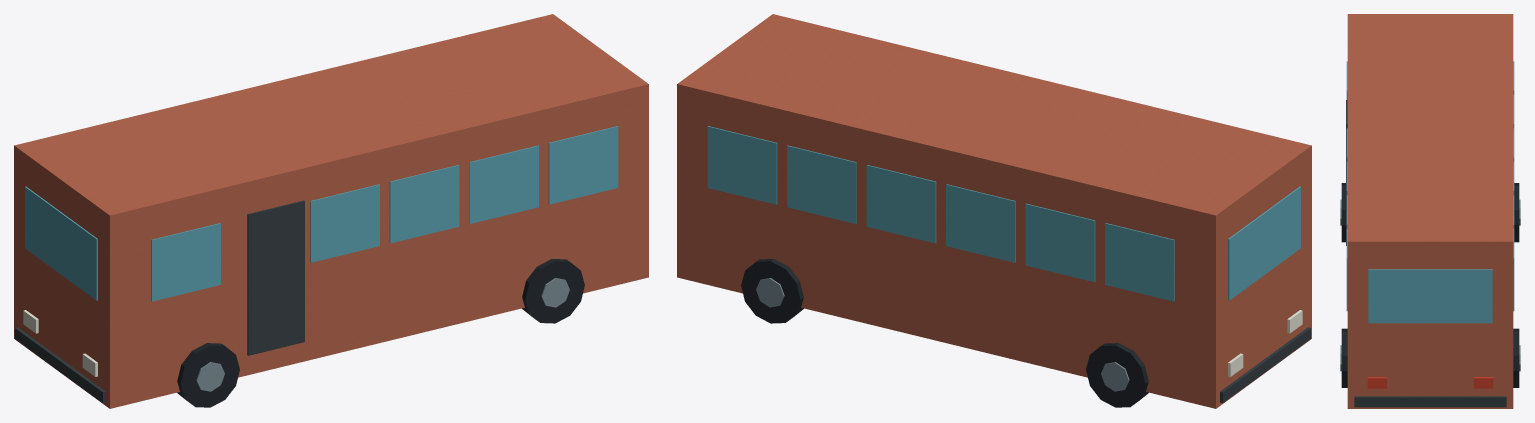
The model's file is bus.glb.
The picture shows the model from 3 angles, left to right: view 1: azimuth 30°, elevation 25°; view 2: azimuth 150°, elevation 25°; view 3: azimuth 270°, elevation 25°; orthographic projection. The views are drawn at different scales.
Parts seen in each view (by area): view 1: Bus passenger volume 010, Vehicle lower body 009, Passenger door 024, Bus end glass 022, Bus side window 020, Bus side window 016, Bus side window 011, Bus side window 014, Bus side window 018, Polygon tyre 001, Polygon tyre 005, Bumper 029 (+2 smaller); view 2: Bus passenger volume 010, Vehicle lower body 009, Bus end glass 022, Bus side window 013, Bus side window 021, Bus side window 017, Bus side window 012, Bus side window 015, Bus side window 019, Polygon tyre 003, Polygon tyre 007, Bumper 029 (+2 smaller); view 3: Bus passenger volume 010, Bus end glass 023, Vehicle lower body 009, Bumper 030, Polygon tyre 005, Polygon tyre 007, Polygon tyre 003, Polygon tyre 001, Rear lamp 026, Rear lamp 028.
Boxes of the visible parts, x1=… form: Bus passenger volume 010: x1=14, y1=14, x2=648, y2=363; Vehicle lower body 009: x1=14, y1=231, x2=648, y2=408; Passenger door 024: x1=247, y1=200, x2=304, y2=355; Bus end glass 022: x1=25, y1=186, x2=97, y2=300; Bus side window 020: x1=548, y1=126, x2=618, y2=204; Bus side window 016: x1=389, y1=165, x2=459, y2=243; Bus side window 011: x1=151, y1=223, x2=220, y2=301; Bus side window 014: x1=310, y1=184, x2=379, y2=262; Bus side window 018: x1=469, y1=145, x2=538, y2=223; Polygon tyre 001: x1=177, y1=343, x2=239, y2=407; Polygon tyre 005: x1=522, y1=259, x2=584, y2=323; Bumper 029: x1=15, y1=327, x2=105, y2=403; Bus passenger volume 010: x1=677, y1=14, x2=1311, y2=363; Vehicle lower body 009: x1=677, y1=231, x2=1311, y2=408; Bus end glass 022: x1=1228, y1=186, x2=1300, y2=300; Bus side window 013: x1=1025, y1=203, x2=1095, y2=282; Bus side window 021: x1=707, y1=126, x2=777, y2=204; Bus side window 017: x1=866, y1=165, x2=936, y2=243; Bus side window 012: x1=1105, y1=223, x2=1174, y2=301; Bus side window 015: x1=946, y1=184, x2=1015, y2=262; Bus side window 019: x1=787, y1=145, x2=856, y2=223; Polygon tyre 003: x1=1086, y1=343, x2=1148, y2=407; Polygon tyre 007: x1=741, y1=259, x2=803, y2=323; Bumper 029: x1=1220, y1=327, x2=1310, y2=403; Bus passenger volume 010: x1=1347, y1=14, x2=1513, y2=369; Bus end glass 023: x1=1368, y1=269, x2=1492, y2=323; Vehicle lower body 009: x1=1347, y1=368, x2=1513, y2=408; Bumper 030: x1=1354, y1=396, x2=1506, y2=407; Polygon tyre 005: x1=1341, y1=328, x2=1347, y2=387; Polygon tyre 007: x1=1513, y1=328, x2=1519, y2=387; Polygon tyre 003: x1=1514, y1=183, x2=1519, y2=242; Polygon tyre 001: x1=1341, y1=183, x2=1345, y2=242; Rear lamp 026: x1=1367, y1=377, x2=1386, y2=388; Rear lamp 028: x1=1474, y1=377, x2=1493, y2=388.
Bounding box in the file's own units: 7.89 × 2.95 × 2.61.
Materials: 7 (7 with a texture image).
